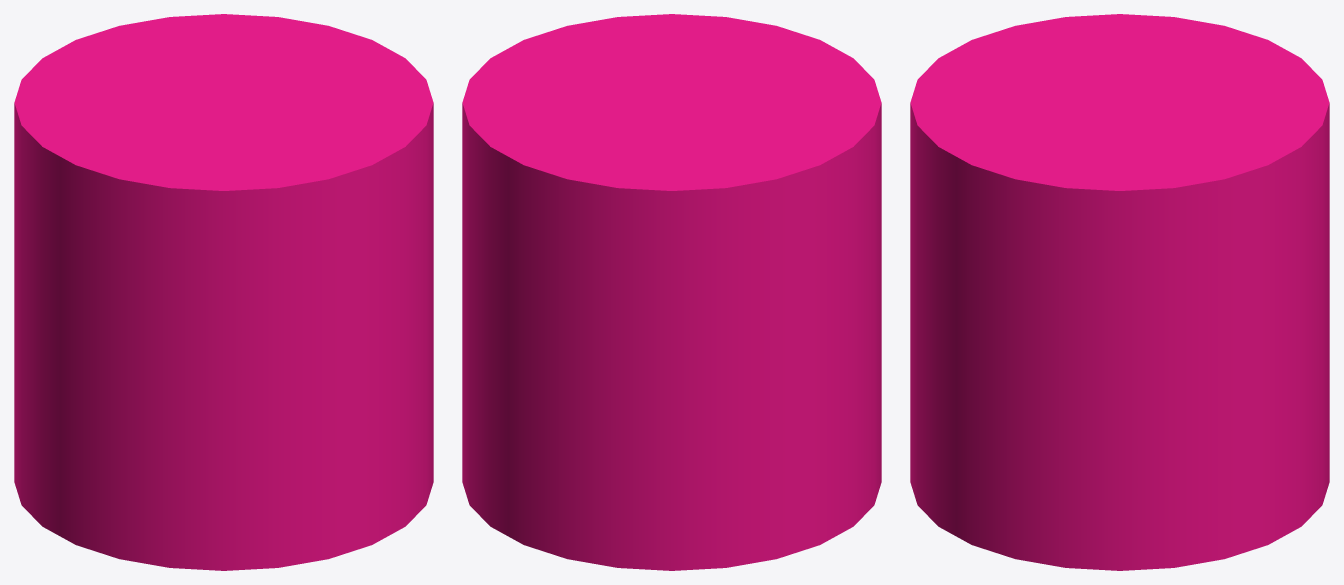
3 renders of one model, left to right at view 1: azimuth 30°, elevation 25°; view 2: azimuth 150°, elevation 25°; view 3: azimuth 270°, elevation 25°, orthographic.
Size of the model in its own units: 0.2289 by 0.2289 by 0.2289.
